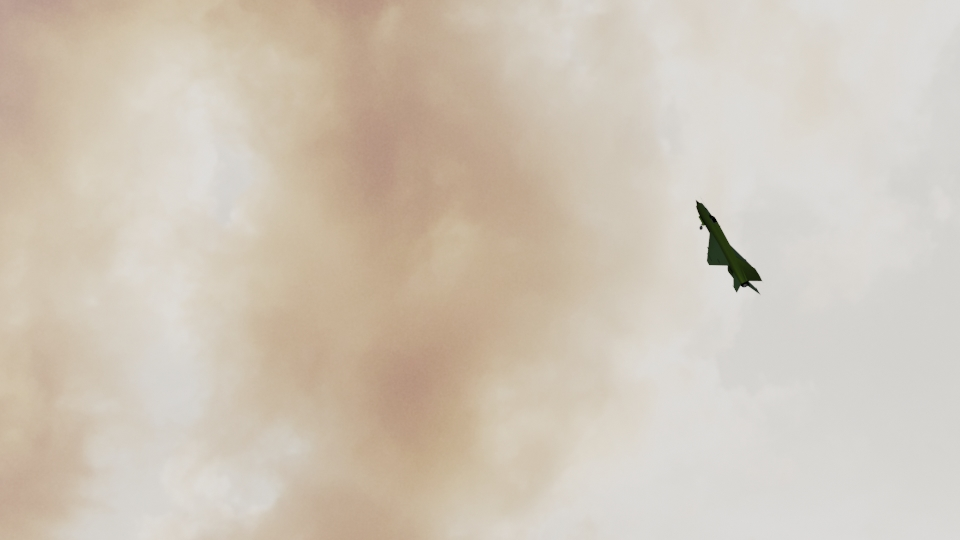plane: (693, 198, 763, 296)
